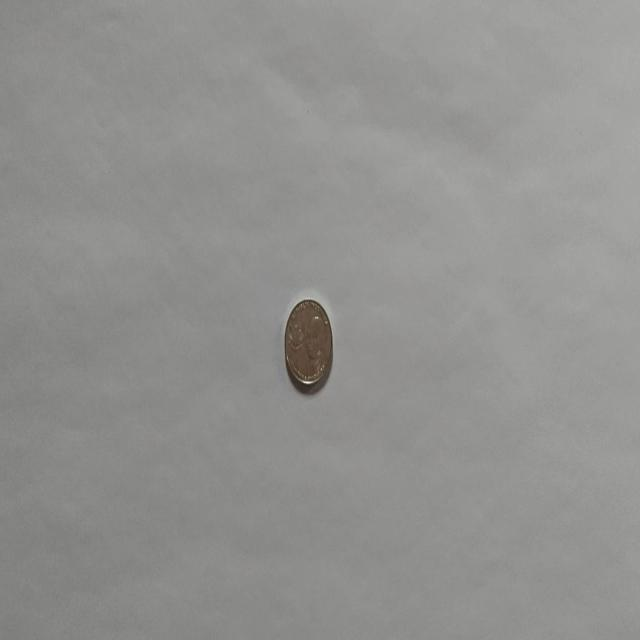lima ratus rupiah: (283, 297, 333, 391)
